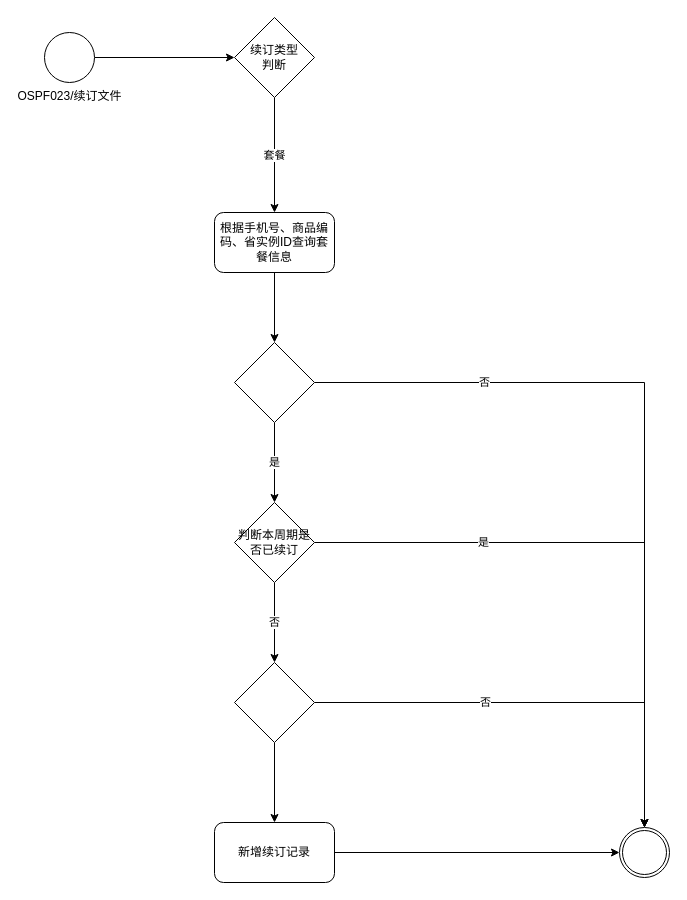
The diagram is 687 pixels wide and 900 high, and some of its shapes have lost their labels. Each missing label, with the centre of its shape:
"判断续订周期是否正确" goes at (x=274, y=702).
"判断订单状体是否可续订" goes at (x=274, y=382).
